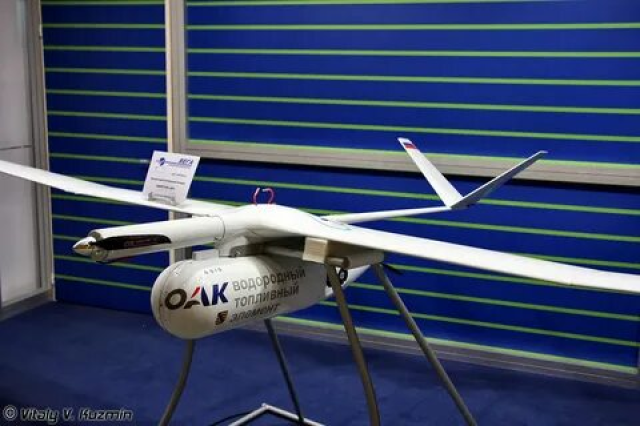military drone: (0, 137, 640, 426)
